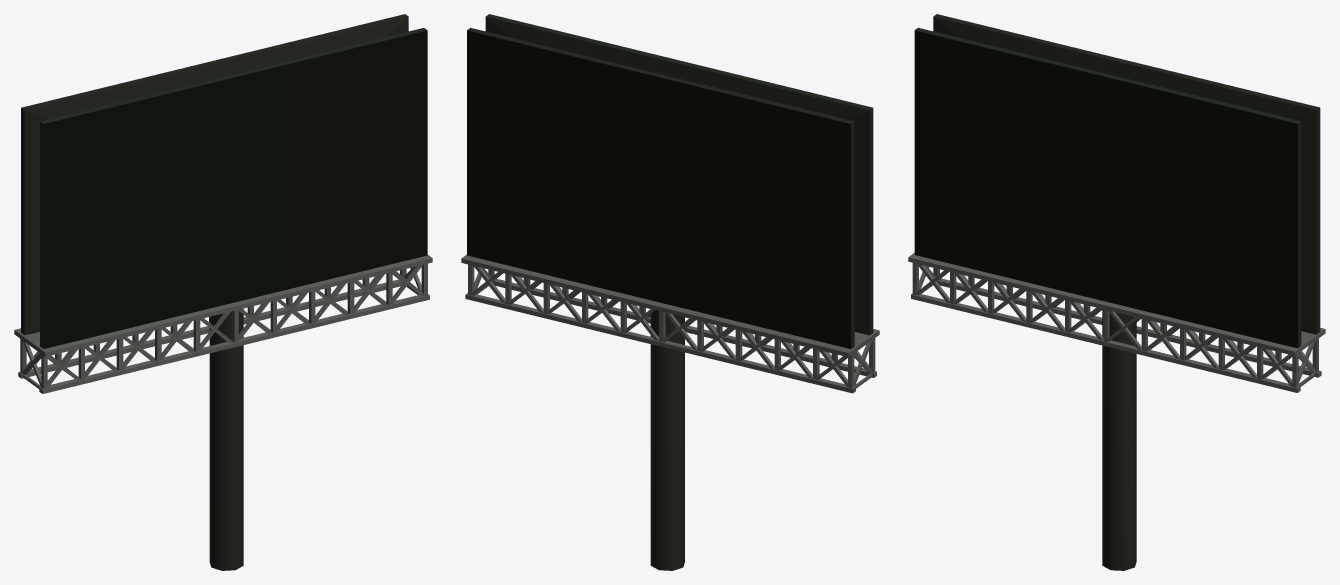
File: Billboard_Black.glb
The picture shows the model from 3 angles, left to right: view 1: azimuth 30°, elevation 25°; view 2: azimuth 150°, elevation 25°; view 3: azimuth 330°, elevation 25°; orthographic projection.
Visible parts, largest first — view 1: billboardCross_Black; view 2: billboardCross_Black; view 3: billboardCross_Black.
Part boxes in pixels (x1,y1,x2,y2): billboardCross_Black: [14, 14, 432, 570]; billboardCross_Black: [461, 14, 879, 570]; billboardCross_Black: [908, 14, 1325, 570].
Size of what is drawn, in the model's own units: 4.09 by 5 by 0.5662.
Materials: 1 (1 with a texture image).
